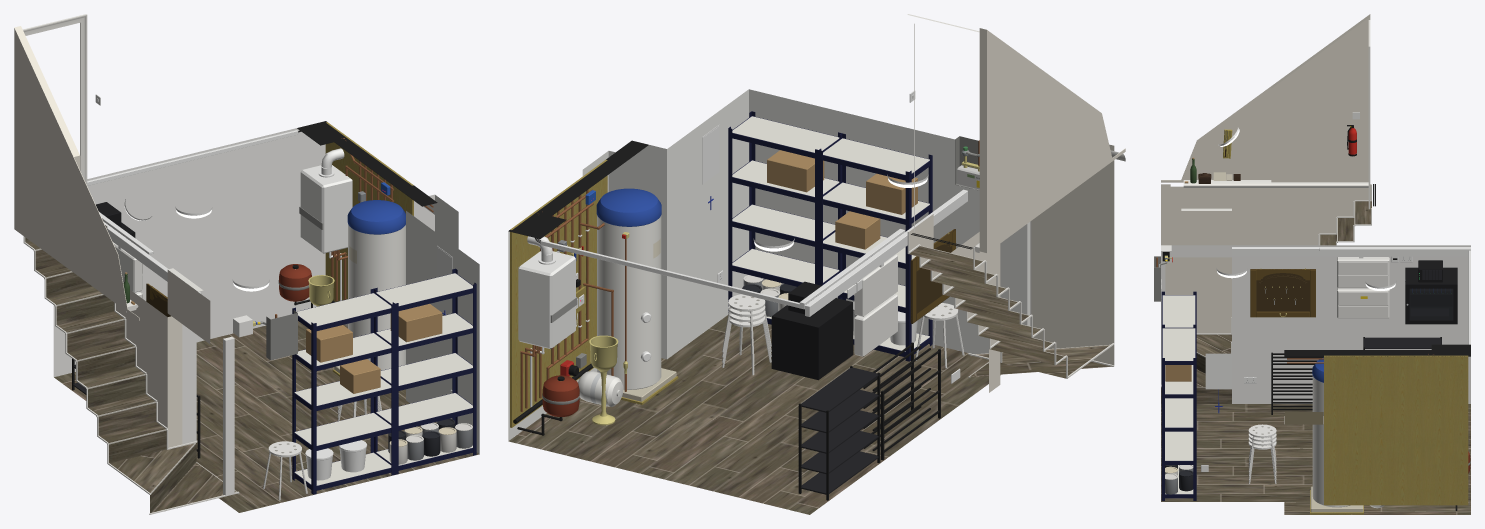
3 renders of one model, left to right at view 1: azimuth 30°, elevation 25°; view 2: azimuth 150°, elevation 25°; view 3: azimuth 270°, elevation 25°, orthographic. The views are drawn at different scales.
Parts seen in each view (by area): view 1: basement.walls, basement.floor, basement_stair.flight, basement_stair.lining, basement.rack.w, basement.rack.e, basement.rack.stock, basement_stair.walls, basement.cylinder, basement.boiler, basement.backboard, basement.gas_meter (+7 smaller); view 2: basement.floor, basement.walls, basement_stair.lining, basement_stair.walls, basement.cylinder, basement.rack.e, basement.backboard, basement.rack.w, basement.electrics, basement_stair.flight, basement.shoe_rack.2, basement.rack.stock (+13 smaller); view 3: basement.backboard, basement_stair.lining, basement.walls, basement_stair.walls, basement.floor, basement.electrics, basement.rack.e, basement.keyboard, basement_stair.flight, basement.cylinder, basement.netcab, basement.shoe_rack.1 (+14 smaller).
Boxes of the visible parts, <box> form: basement.walls: <box>53,128,479,453</box>; basement.floor: <box>54,321,479,512</box>; basement_stair.flight: <box>25,237,235,512</box>; basement_stair.lining: <box>14,26,203,320</box>; basement.rack.w: <box>292,288,394,494</box>; basement.rack.e: <box>374,268,476,474</box>; basement.rack.stock: <box>305,303,472,480</box>; basement_stair.walls: <box>105,225,210,447</box>; basement.cylinder: <box>332,200,405,376</box>; basement.boiler: <box>299,148,352,253</box>; basement.backboard: <box>297,121,437,301</box>; basement.gas_meter: <box>223,310,297,496</box>; basement.floor: <box>508,315,1000,514</box>; basement.walls: <box>508,89,1031,440</box>; basement_stair.lining: <box>979,28,1125,252</box>; basement_stair.walls: <box>909,144,1114,392</box>; basement.cylinder: <box>579,188,678,404</box>; basement.rack.e: <box>728,111,841,324</box>; basement.backboard: <box>508,140,648,427</box>; basement.rack.w: <box>819,133,932,361</box>; basement.electrics: <box>531,189,967,356</box>; basement_stair.flight: <box>909,246,1111,378</box>; basement.shoe_rack.2: <box>798,366,880,500</box>; basement.rack.stock: <box>742,150,917,345</box>; basement.backboard: <box>1284,344,1470,505</box>; basement_stair.lining: <box>1161,14,1370,210</box>; basement.walls: <box>1171,245,1470,423</box>; basement_stair.walls: <box>1161,184,1370,333</box>; basement.floor: <box>1161,404,1470,514</box>; basement.electrics: <box>1232,247,1470,344</box>; basement.rack.e: <box>1161,325,1196,500</box>; basement.keyboard: <box>1250,268,1315,317</box>; basement_stair.flight: <box>1161,201,1371,403</box>; basement.cylinder: <box>1310,357,1363,514</box>; basement.netcab: <box>1405,267,1457,319</box>; basement.shoe_rack.1: <box>1271,352,1323,414</box>.
Size of the model in its own units: 4.34 by 4.4 by 3.62.
68 materials, 3 textured.
